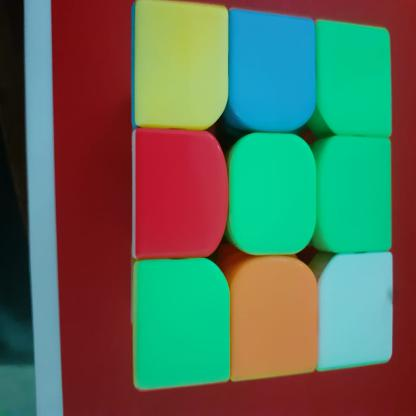cube: (123, 0, 399, 395)
